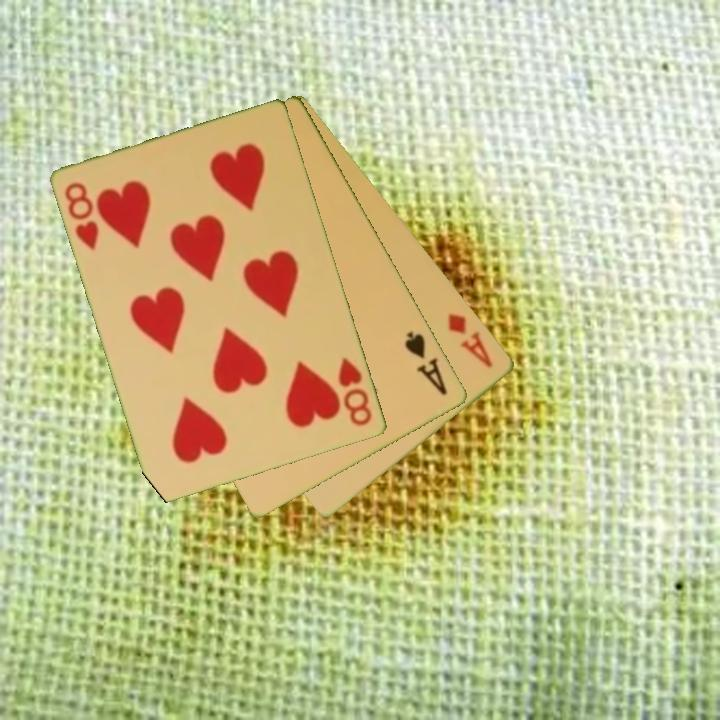8h: (335, 354, 376, 430), (61, 179, 103, 253)
Ad: (444, 309, 497, 371)
As: (401, 328, 451, 399)
